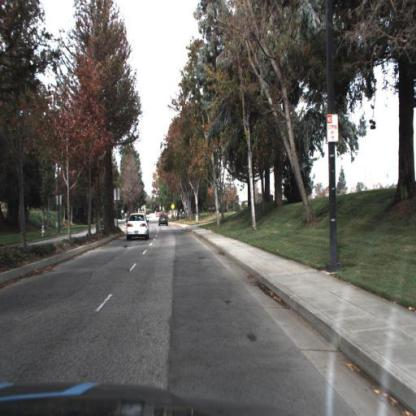car: (124, 212, 150, 240), (158, 213, 169, 228)
